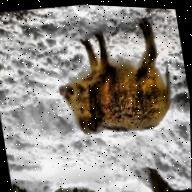boar: (47, 10, 178, 144)
